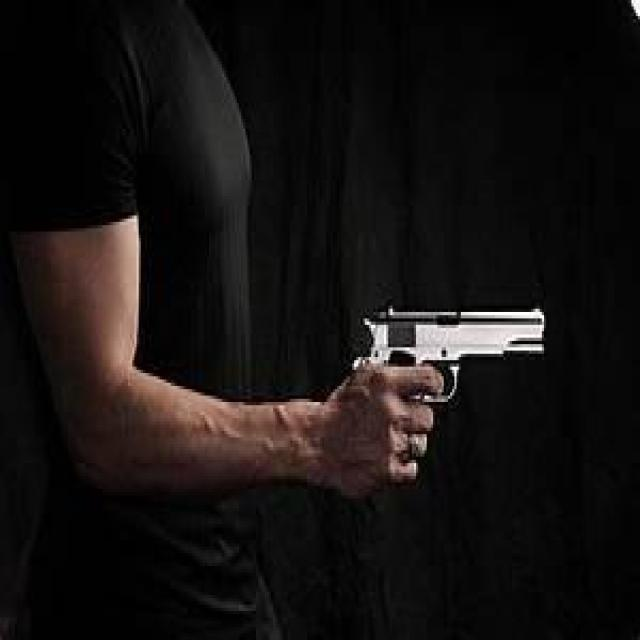Handgun: (337, 284, 555, 502)
